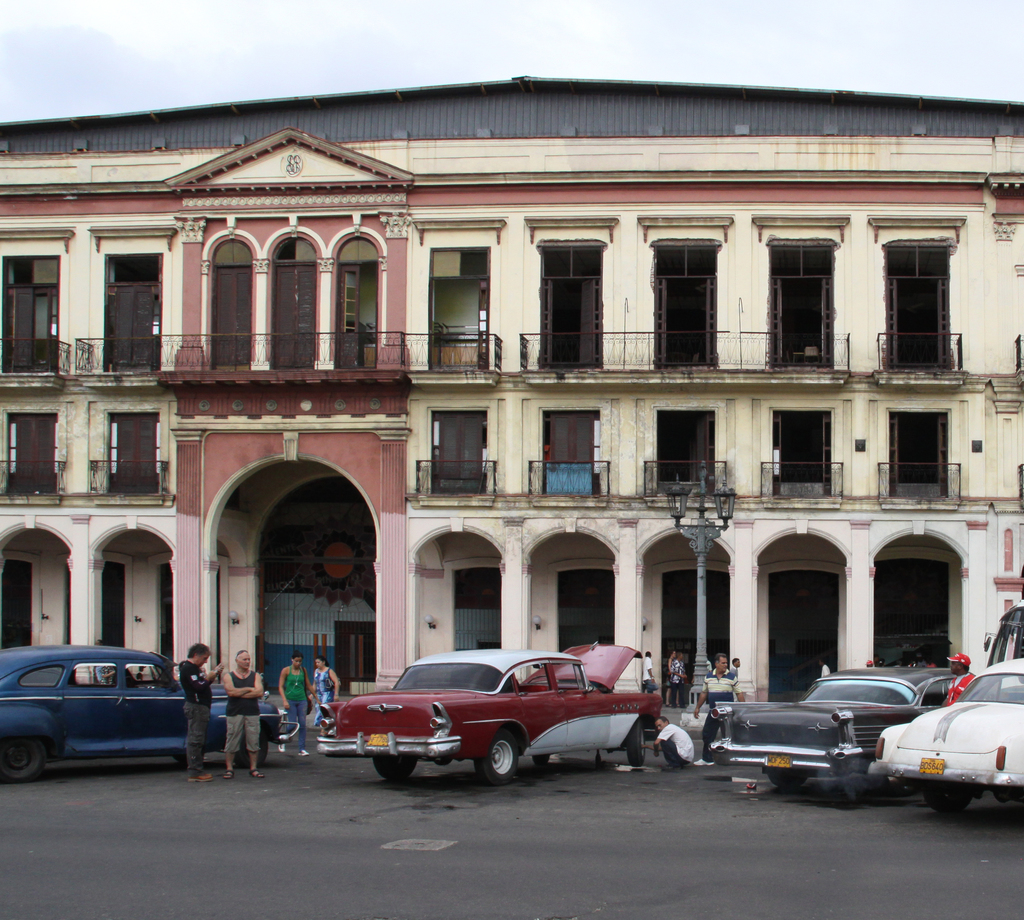Car: (312, 640, 665, 787), (0, 638, 296, 779), (706, 662, 969, 799), (869, 654, 1023, 807)
